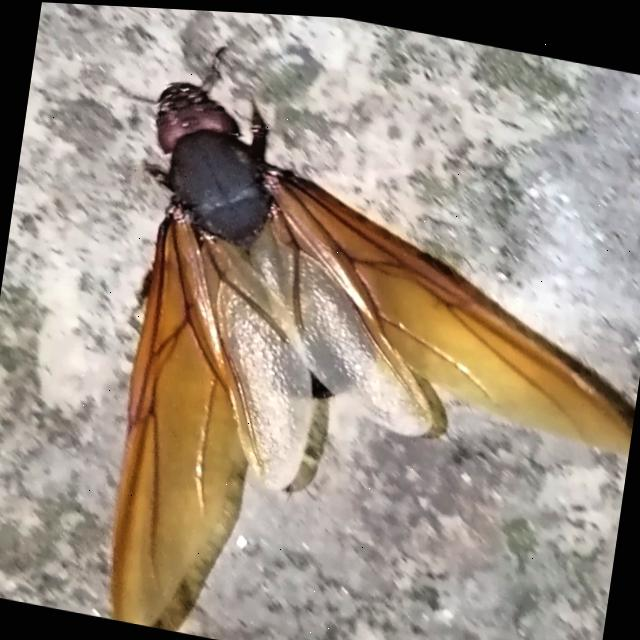Alive-Female-Alate: (23, 18, 640, 640)
